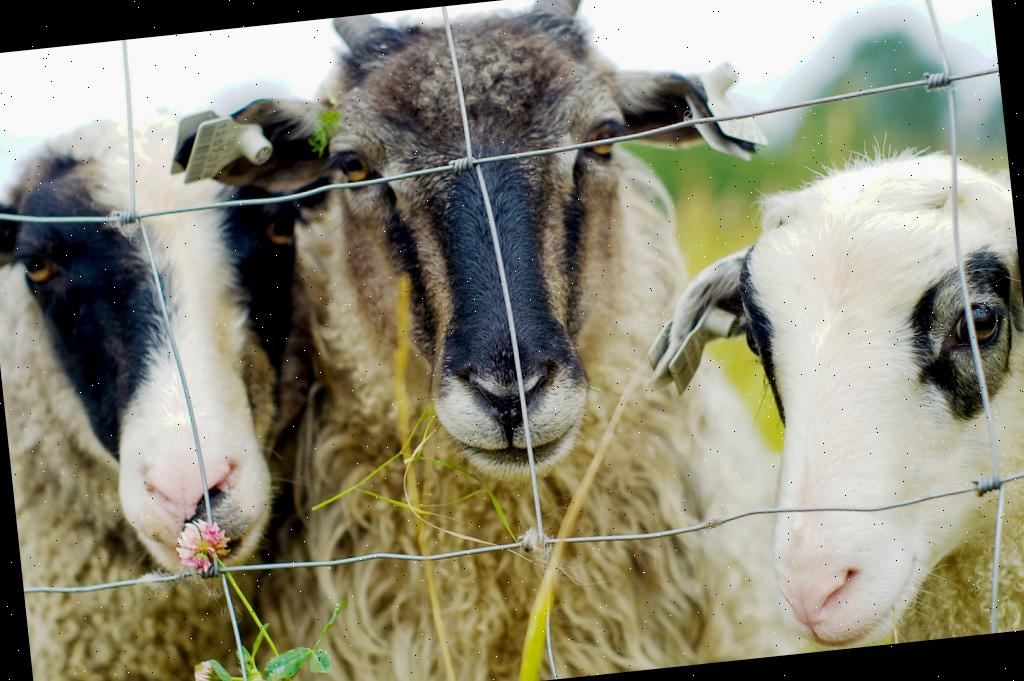Sheep: (158, 0, 796, 681), (0, 90, 382, 681), (637, 114, 1024, 664)
